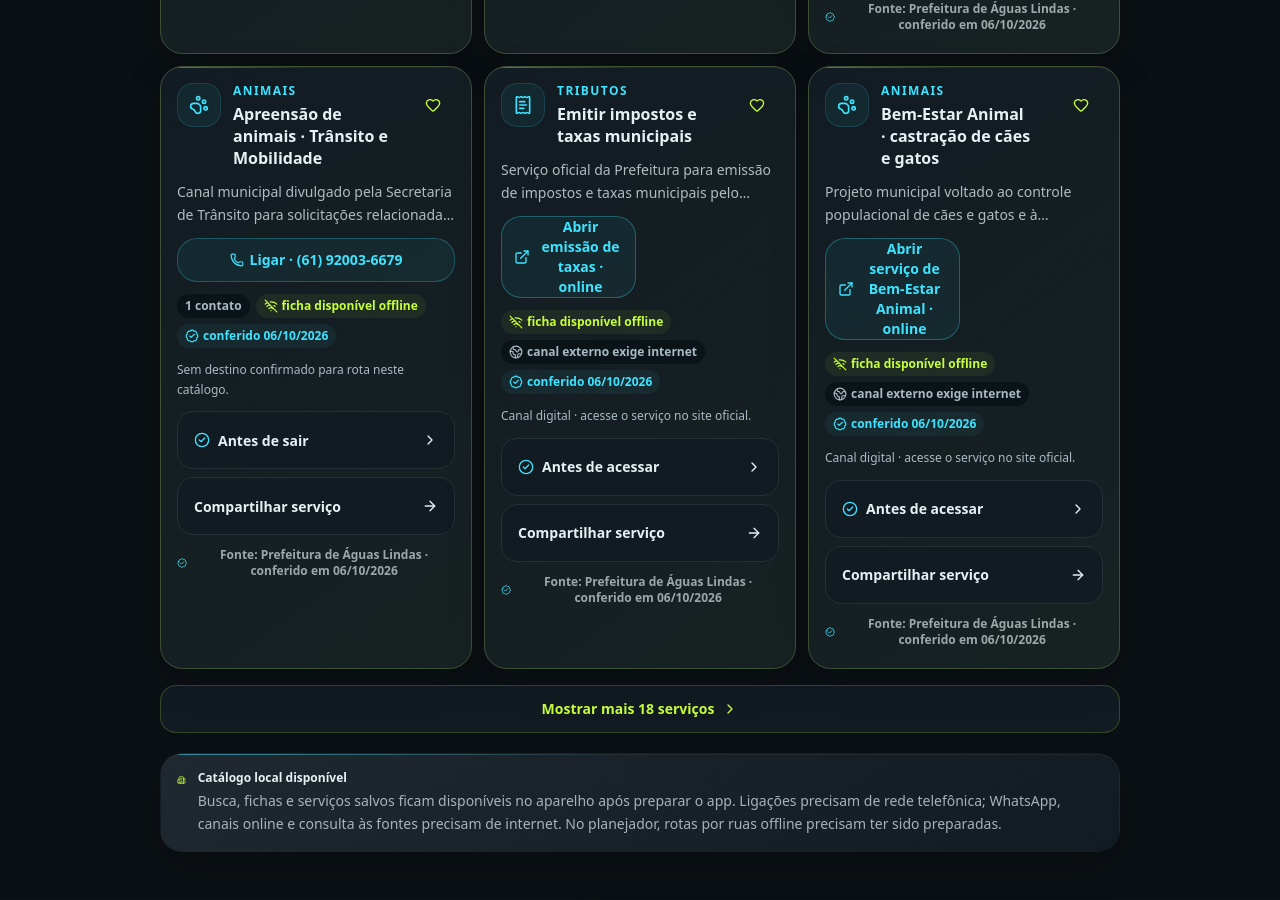
batches recovery for an unknown service link and searches the complete directory
(page scrolled)
Click the button "Mostrar mais 18 serviços".
click(640, 709)  # box [160, 685, 1120, 733]
(page scrolled)
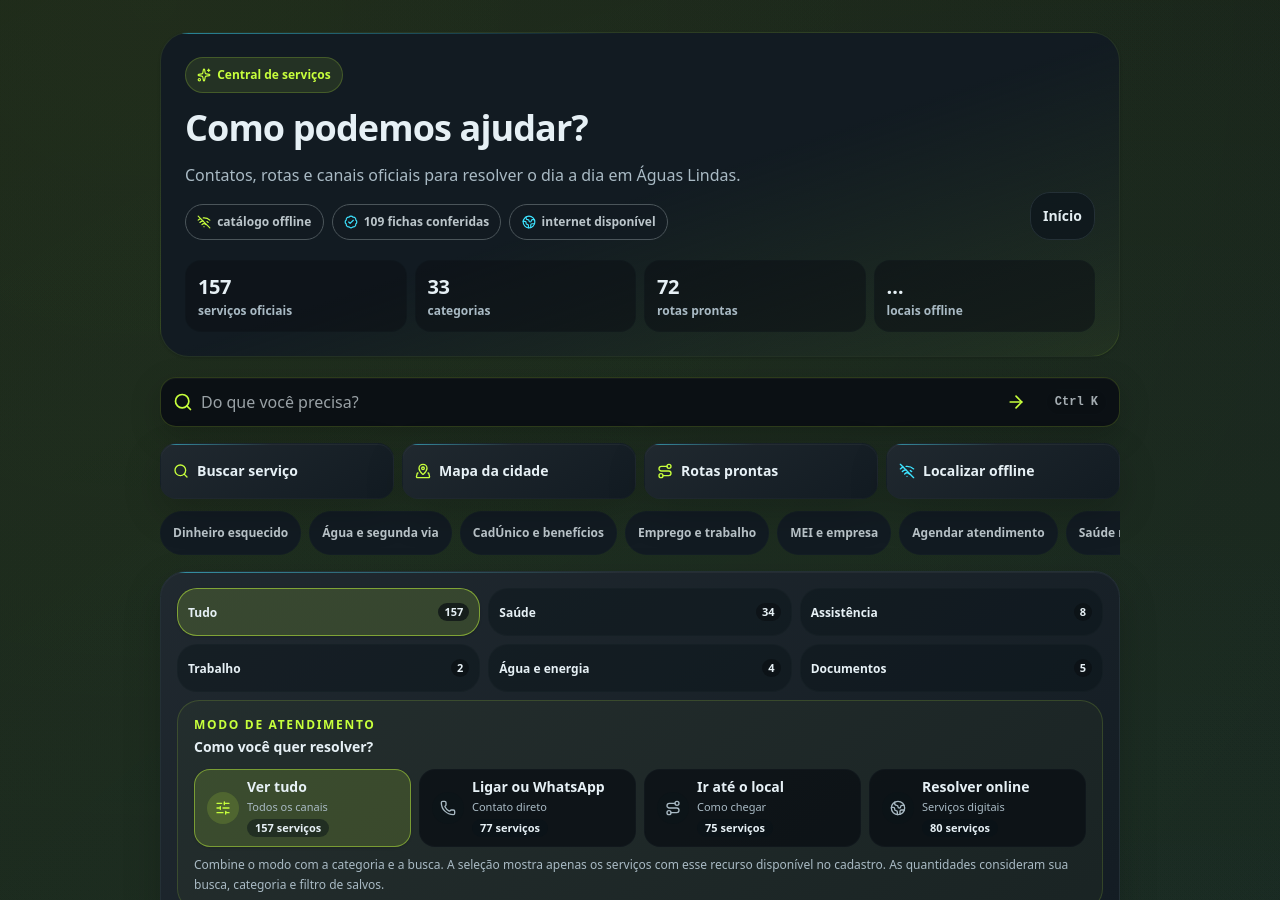
Type "180" into the field named "Buscar serviços públicos".
click(593, 402); type("180")  # box [201, 378, 986, 426]
(page scrolled)
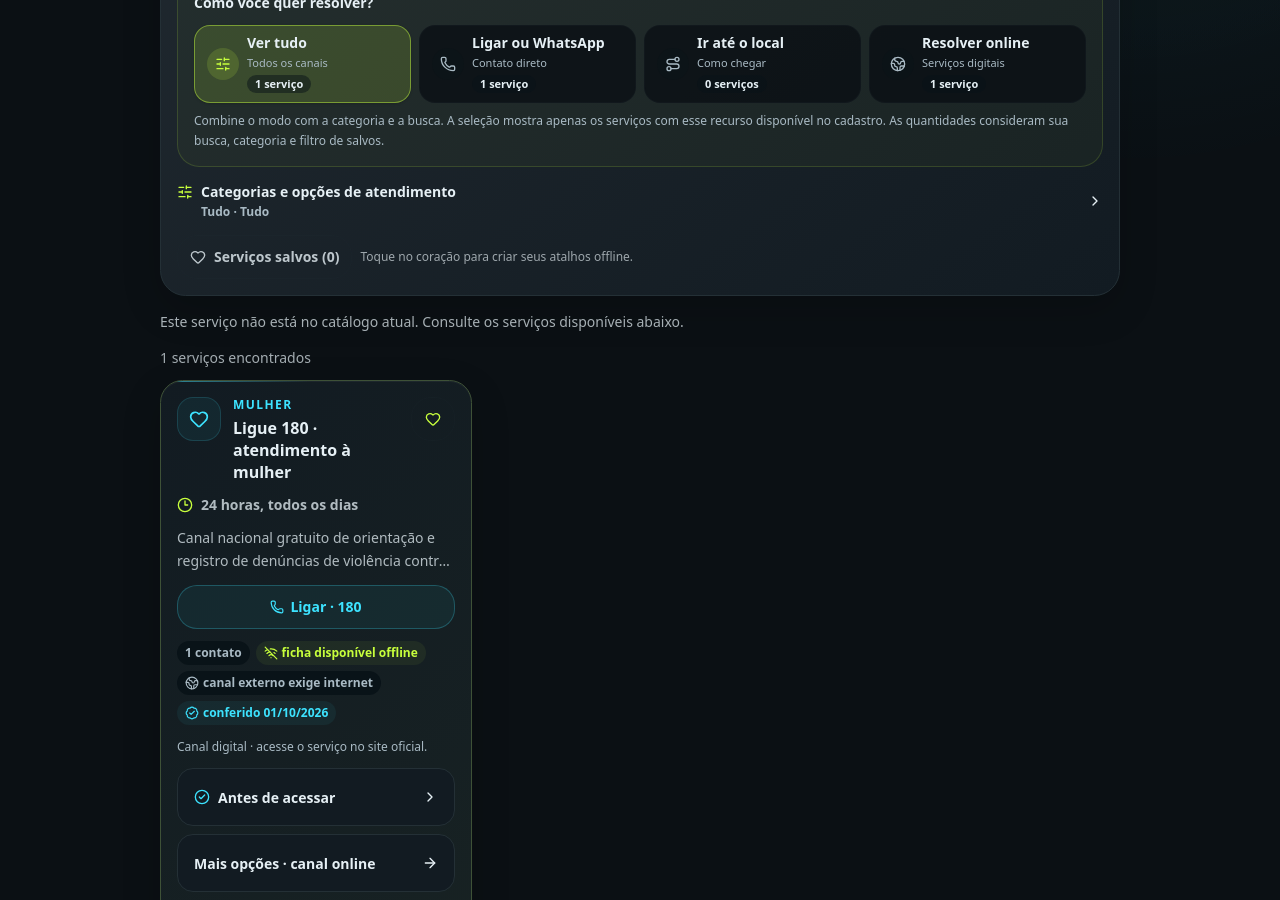
Expected: the button "Mostrar mais 18 serviços" is not shown
Result: the heading "Ligue 180 · atendimento à mulher" is shown at [233, 417, 351, 483]
